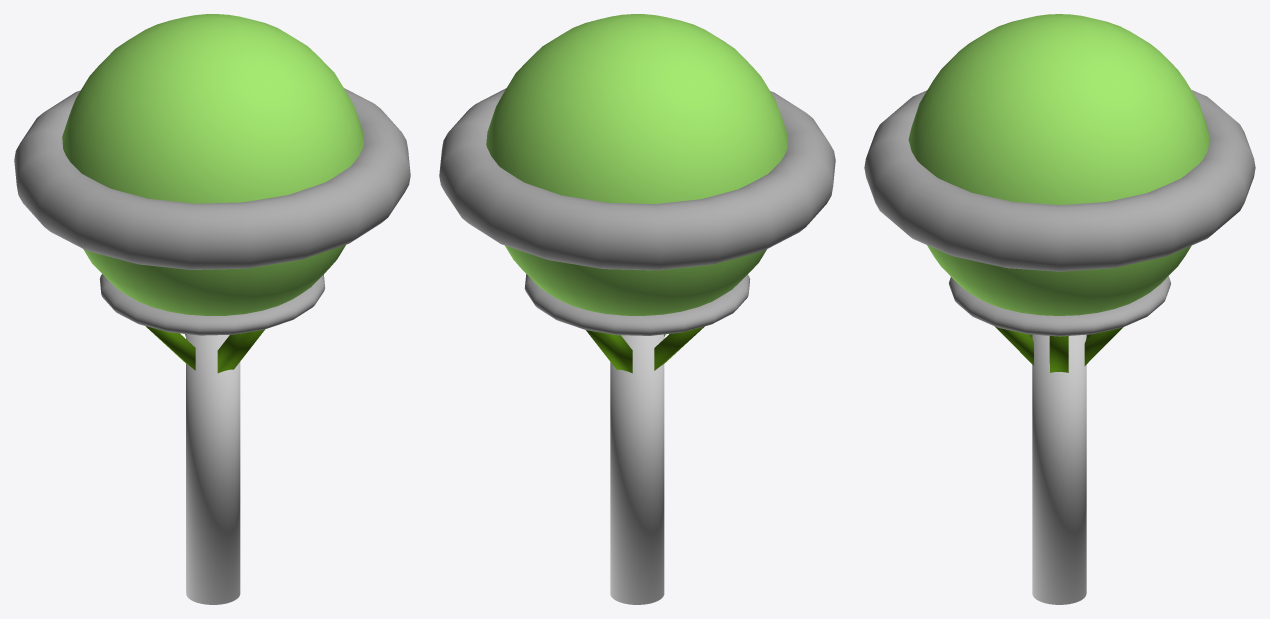
File: wipeoutGreen.fbx
The picture shows the model from 3 angles, left to right: view 1: azimuth 30°, elevation 25°; view 2: azimuth 150°, elevation 25°; view 3: azimuth 270°, elevation 25°; orthographic projection.
Visible parts, largest first — view 1: slide1:wipeoutball:Sphere1; view 2: slide1:wipeoutball:Sphere1; view 3: slide1:wipeoutball:Sphere1.
Boxes of the visible parts, left/top/right/bottom form: slide1:wipeoutball:Sphere1: left=14, top=14, right=410, bottom=604; slide1:wipeoutball:Sphere1: left=439, top=14, right=835, bottom=604; slide1:wipeoutball:Sphere1: left=864, top=14, right=1255, bottom=604.
Bounding box in the file's own units: 12.87 × 19.98 × 12.53.
